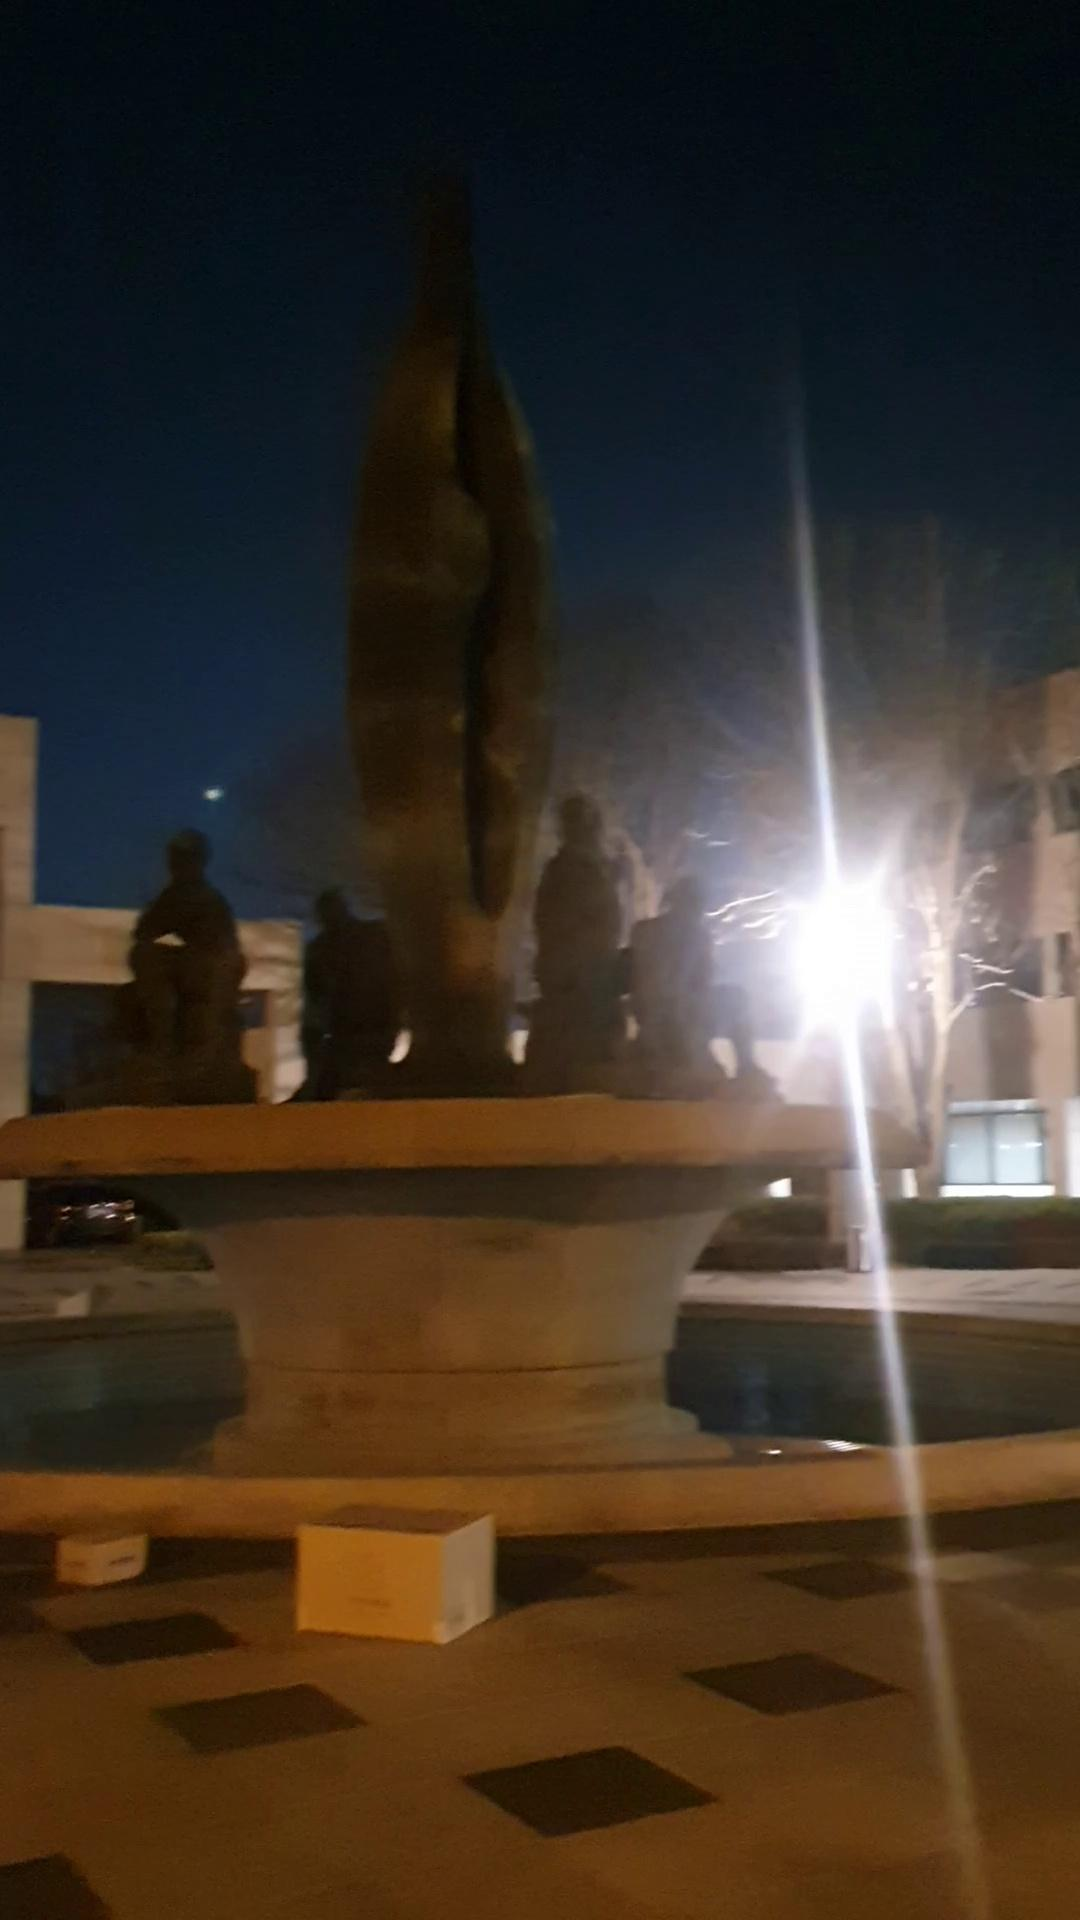Box: (291, 1495, 502, 1647), (53, 1520, 160, 1585)
